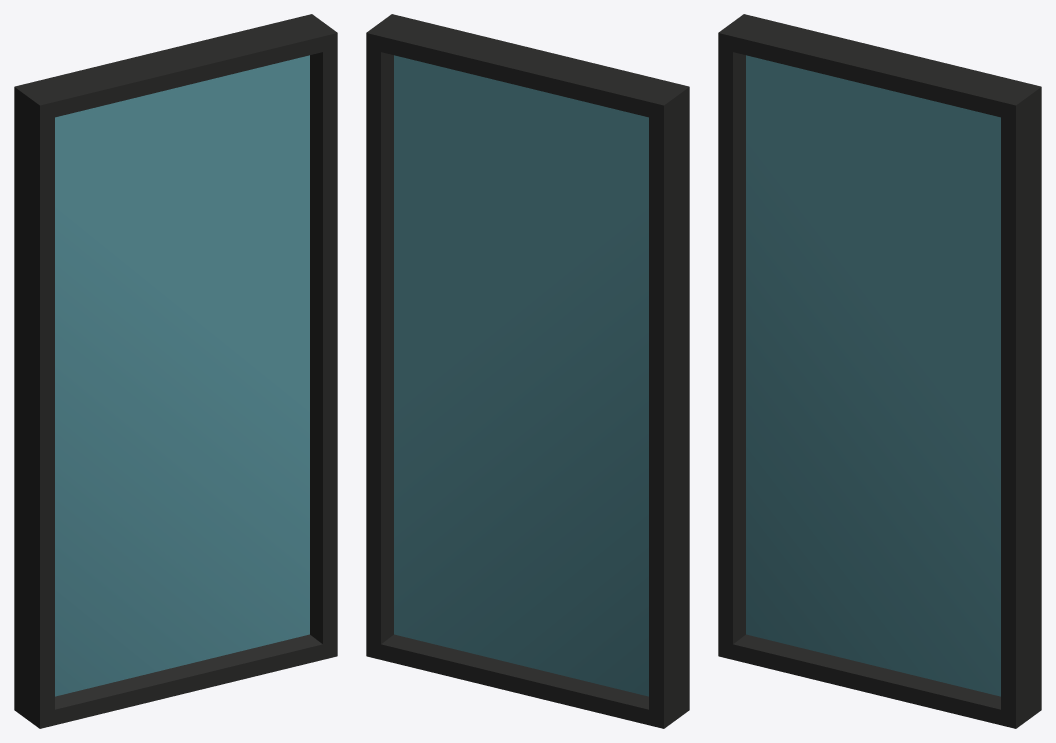
File: tallWindowLightStraight.fbx
3 renders of one model, left to right at view 1: azimuth 30°, elevation 25°; view 2: azimuth 150°, elevation 25°; view 3: azimuth 330°, elevation 25°, orthographic.
Visible parts, largest first — view 1: tallWindowLightStraight; view 2: tallWindowLightStraight; view 3: tallWindowLightStraight.
Boxes of the visible parts, bbox=[...] form: tallWindowLightStraight: bbox=[14, 14, 337, 728]; tallWindowLightStraight: bbox=[366, 14, 689, 728]; tallWindowLightStraight: bbox=[718, 14, 1041, 728].
Size of the model in its own units: 200 by 400 by 30.
Materials: 1 (1 with a texture image).
